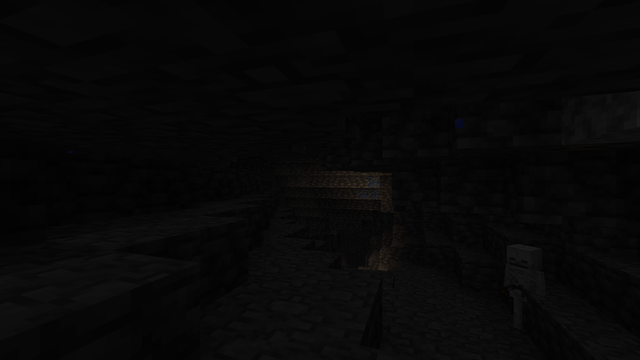squelettes: (505, 243, 545, 336)
